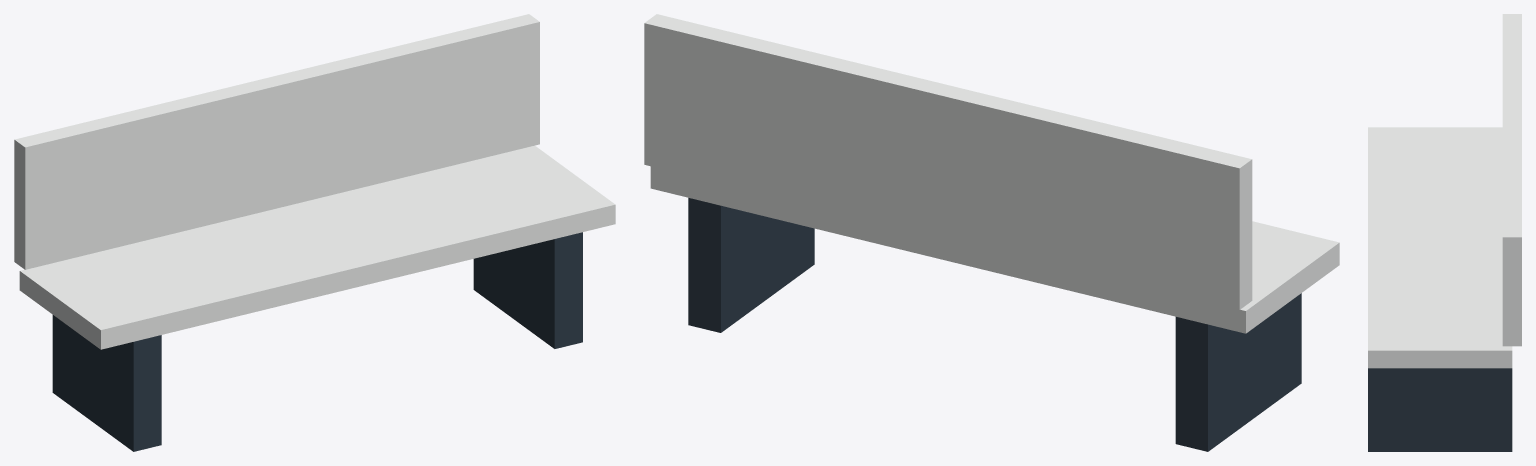
The model's file is bench.fbx.
The picture shows the model from 3 angles, left to right: view 1: azimuth 30°, elevation 25°; view 2: azimuth 150°, elevation 25°; view 3: azimuth 270°, elevation 25°; orthographic projection. The views are drawn at different scales.
Parts seen in each view (by area): view 1: bench; view 2: bench; view 3: bench.
Part boxes in pixels (bbox=[...]): bench: bbox=[14, 14, 615, 451]; bench: bbox=[644, 14, 1339, 451]; bench: bbox=[1368, 14, 1521, 451].
Size of the model in its own units: 2.2 by 1.05 by 0.64.
